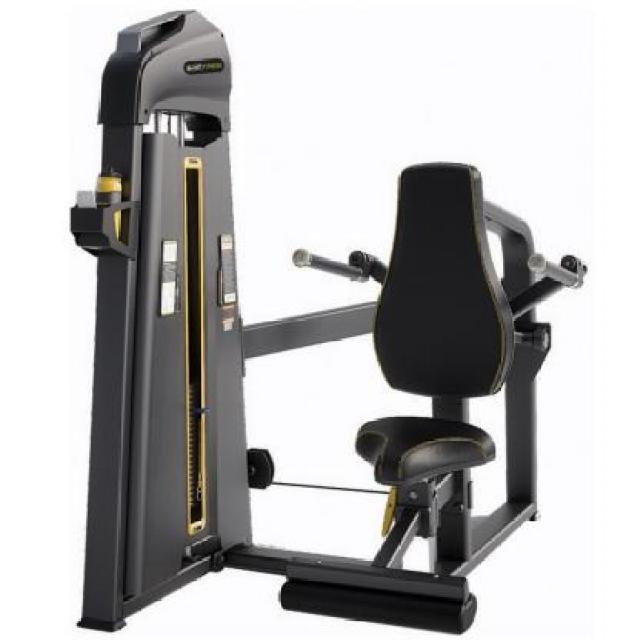seated dip machine: (69, 9, 589, 637)
